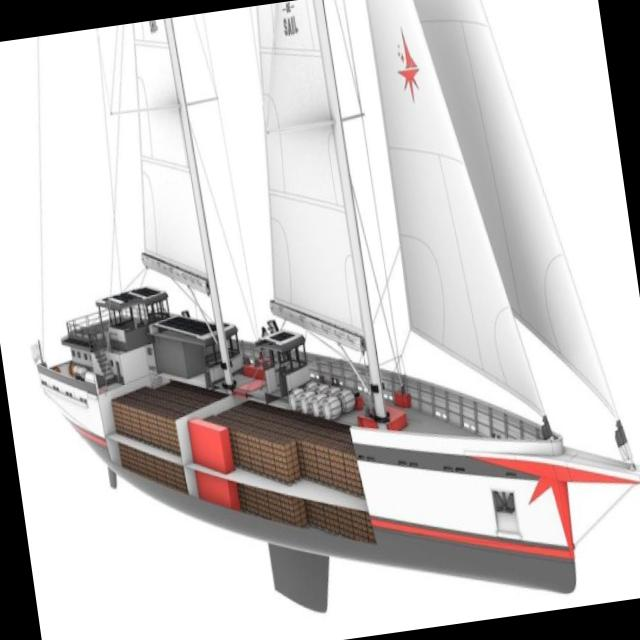boat: (24, 216, 640, 640)
